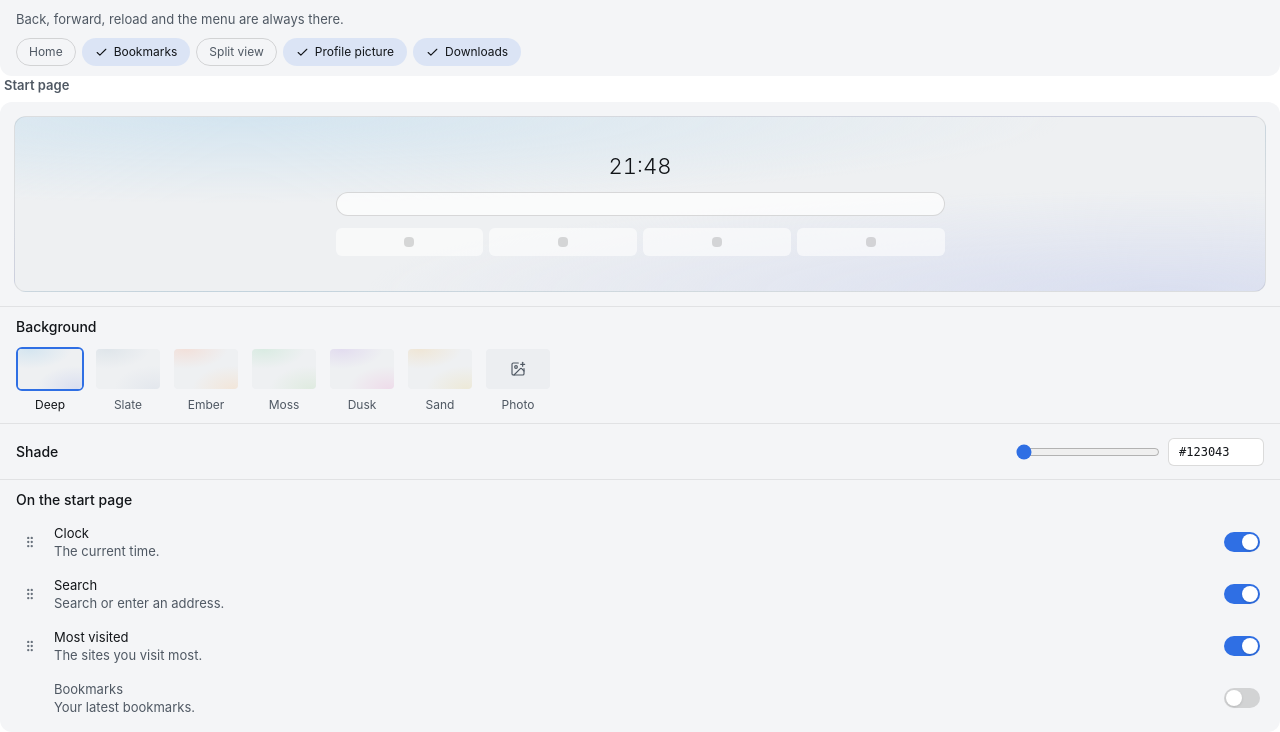
the start page background › saves the shade when the slider is let go, not while it moves
Set the slider named "Start page shade" to "90" at coordinates (1056, 452), box [1016,444,1160,460]
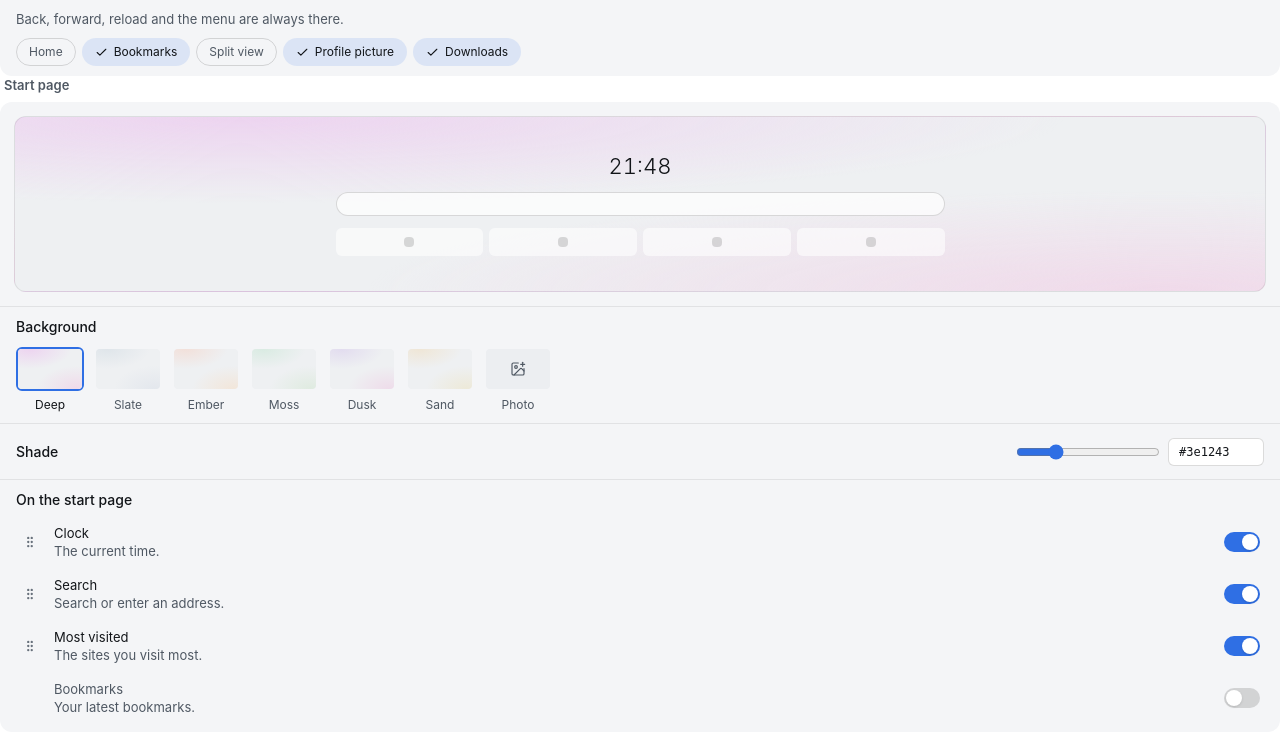
Now the field named "Start page colour as hex" does not hold "#123043", box [1168,438,1264,466]
